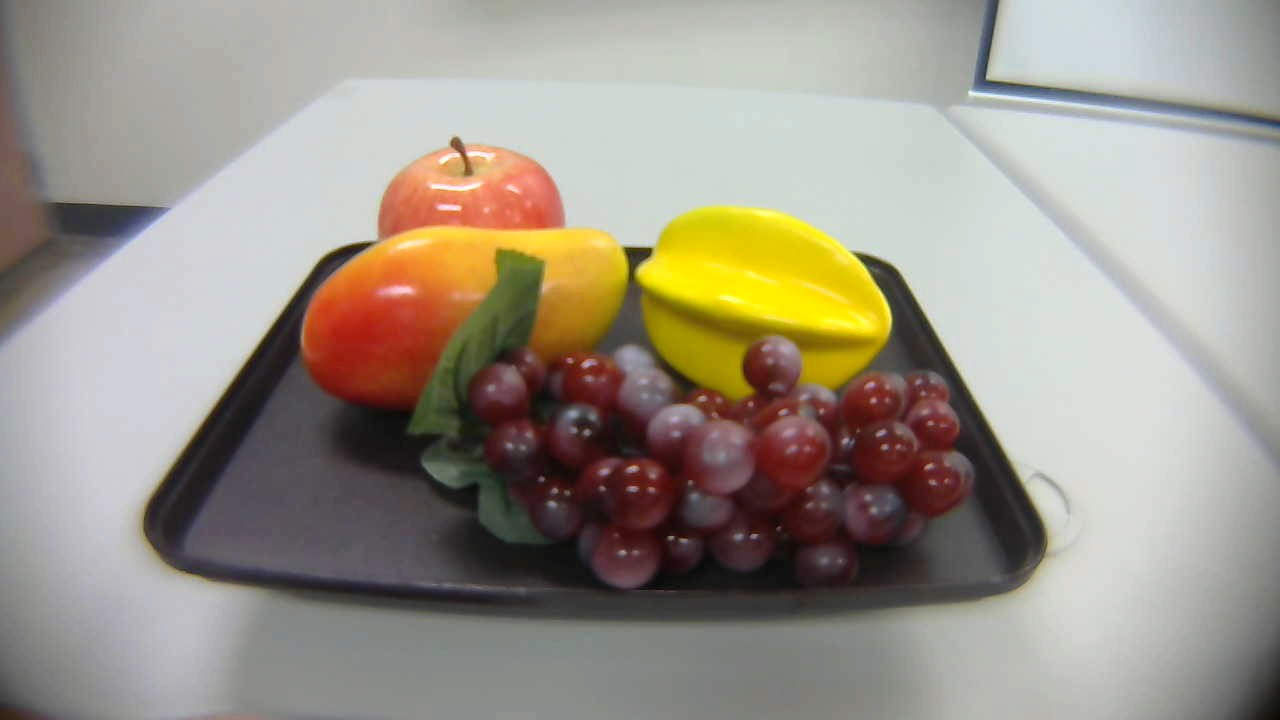grape: (395, 248, 992, 586)
red apple: (363, 128, 592, 279)
red mango: (278, 219, 635, 413)
star fruit: (618, 194, 910, 399)
